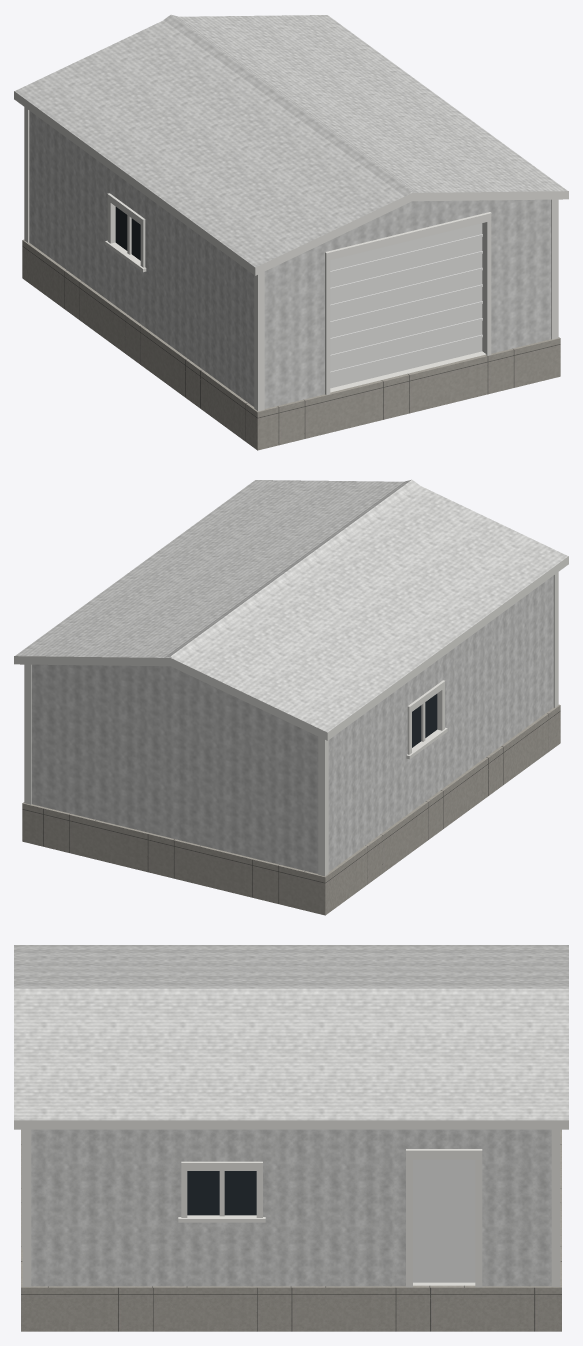
Rendered from shed-metal.glb.
The picture shows the model from 3 angles, top to bottom: view 1: azimuth 30°, elevation 25°; view 2: azimuth 150°, elevation 25°; view 3: azimuth 270°, elevation 25°; orthographic projection. The views are drawn at different scales.
Parts seen in each view (by area): view 1: shed-metal; view 2: shed-metal; view 3: shed-metal.
Boxes of the visible parts, bbox=[...] form: shed-metal: bbox=[14, 14, 568, 450]; shed-metal: bbox=[14, 479, 568, 915]; shed-metal: bbox=[14, 945, 568, 1331].
Bounding box in the file's own units: 6 × 4.1 × 8.
Materials: 6 (3 with a texture image).
